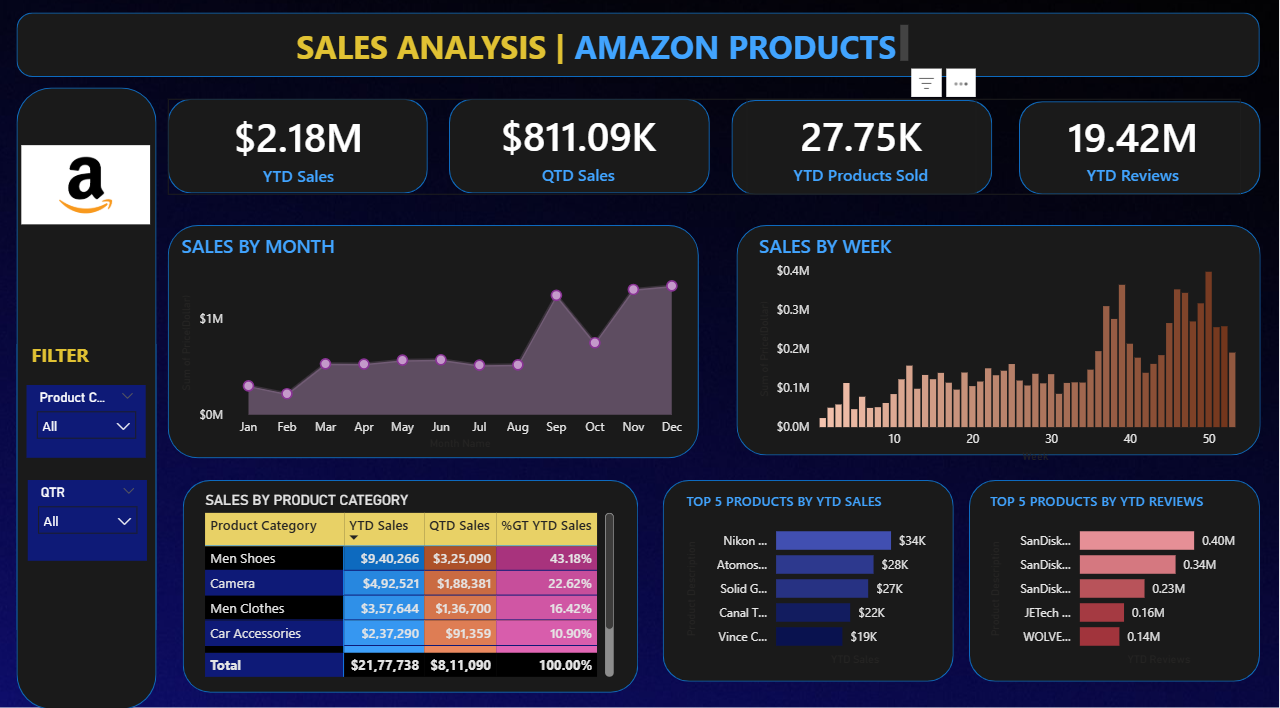

The dashboard page shown, as its layout file describes it:
{"tool":"powerbi","page":{"name":"Page 1","canvas":[1280,720],"ordinal":0},"visuals":[{"type":"shape","box":[17.8,22,1243.2,64.5],"z":0},{"type":"textbox","box":[292.3,30.2,621.6,49.4],"z":1000},{"type":"shape","box":[17.8,97.4,140,622],"z":2000},{"type":"shape","box":[168.8,108.4,260,94.7],"z":3000,"group":"g1"},{"type":"shape","box":[1019.6,111.1,241.5,93.3],"z":3000},{"type":"card","fields":{"Values":["Amazon_Data.YTD Sales"]},"box":[185.3,109.8,229.2,94.7],"z":4000,"group":"g1"},{"type":"group","id":"g1","title":"Group 1","box":[168.8,108.4,1073.1,96.1],"z":4000},{"type":"shape","box":[168.8,234.6,531,233.3],"z":5000},{"type":"shape","box":[732.1,109.8,260.7,94.7],"z":6000,"group":"g1"},{"type":"areaChart","title":"SALES BY MONTH  ","fields":{"Category":["Date Table.Month Name"],"Y":["Amazon_Data.Price(Dollar)"]},"box":[177,242.9,516,222.3],"z":6000},{"type":"shape","box":[450.1,108.4,260.7,94.7],"z":7000,"group":"g1"},{"type":"shape","box":[736.9,234.6,524.2,230.5],"z":7000},{"type":"card","fields":{"Values":["Amazon_Data.QTD Sales"]},"box":[465.2,108.4,229.2,94.7],"z":8000,"group":"g1"},{"type":"columnChart","title":"SALES BY WEEK ","fields":{"Category":["Date Table.Week"],"Y":["Amazon_Data.Price(Dollar)"]},"box":[754.7,242.9,506.3,234.6],"z":8000},{"type":"card","fields":{"Values":["Amazon_Data.YTD Products Sold"]},"box":[747.9,108.4,229.2,94.7],"z":9000,"group":"g1"},{"type":"shape","box":[183.9,489.9,455.6,212.7],"z":9000},{"type":"card","fields":{"Values":["Amazon_Data.YTD Reviews"]},"box":[1026.4,109.8,215.4,93.3],"z":10000,"group":"g1"},{"type":"pivotTable","title":"SALES BY PRODUCT CATEGORY","fields":{"Rows":["Amazon_Data.Product Category"],"Values":["Amazon_Data.YTD Sales","Amazon_Data.QTD Sales","Divide(Amazon_Data.YTD Sales, ScopedEval(Amazon_Data.YTD Sales, []))"]},"box":[201.7,500.9,418.5,190.7],"z":10000},{"type":"shape","box":[664.2,489.9,290.9,201.7],"z":11000},{"type":"shape","box":[970.2,489.9,290.9,201.7],"z":12000},{"type":"clusteredBarChart","title":"TOP 5 PRODUCTS BY YTD SALES","fields":{"Category":["Amazon_Data.Product Description"],"Y":["Amazon_Data.YTD Sales"]},"box":[682,500.9,258,179.8],"z":13000},{"type":"clusteredBarChart","title":"TOP 5 PRODUCTS BY YTD REVIEWS","fields":{"Category":["Amazon_Data.Product Description"],"Y":["Amazon_Data.YTD Reviews"]},"box":[986.6,500.9,258,179.8],"z":14000},{"type":"slicer","fields":{"Values":["Amazon_Data.Product Category"]},"box":[27.4,395.2,119.4,72.7],"z":15000},{"type":"slicer","fields":{"Values":["Date Table.QTR"]},"box":[28.8,489.9,119.4,81],"z":16000},{"type":"image","box":[17.8,129,138.6,131.7],"z":17000},{"type":"textbox","box":[27.4,332.1,81,56.3],"z":18000}]}

Visuals, with their boxes in screenshot pixels (x1, y1, x2, y2), scaled from the page's 1280x720 canvas onto the 1280x708 screenshot:
shape: locate(18, 22, 1261, 85)
textbox: locate(292, 30, 914, 78)
shape: locate(18, 96, 158, 707)
shape: locate(169, 107, 429, 200)
shape: locate(1020, 109, 1261, 201)
card - Amazon_Data.YTD Sales: locate(185, 108, 414, 201)
"Group 1" group: locate(169, 107, 1242, 201)
shape: locate(169, 231, 700, 460)
shape: locate(732, 108, 993, 201)
"SALES BY MONTH  " areaChart: locate(177, 239, 693, 457)
shape: locate(450, 107, 711, 200)
shape: locate(737, 231, 1261, 457)
card - Amazon_Data.QTD Sales: locate(465, 107, 694, 200)
"SALES BY WEEK " columnChart: locate(755, 239, 1261, 470)
card - Amazon_Data.YTD Products Sold: locate(748, 107, 977, 200)
shape: locate(184, 482, 640, 691)
card - Amazon_Data.YTD Reviews: locate(1026, 108, 1242, 200)
"SALES BY PRODUCT CATEGORY" pivotTable: locate(202, 493, 620, 680)
shape: locate(664, 482, 955, 680)
shape: locate(970, 482, 1261, 680)
"TOP 5 PRODUCTS BY YTD SALES" clusteredBarChart: locate(682, 493, 940, 669)
"TOP 5 PRODUCTS BY YTD REVIEWS" clusteredBarChart: locate(987, 493, 1245, 669)
slicer - Amazon_Data.Product Category: locate(27, 389, 147, 460)
slicer - Date Table.QTR: locate(29, 482, 148, 561)
image: locate(18, 127, 156, 256)
textbox: locate(27, 327, 108, 382)
